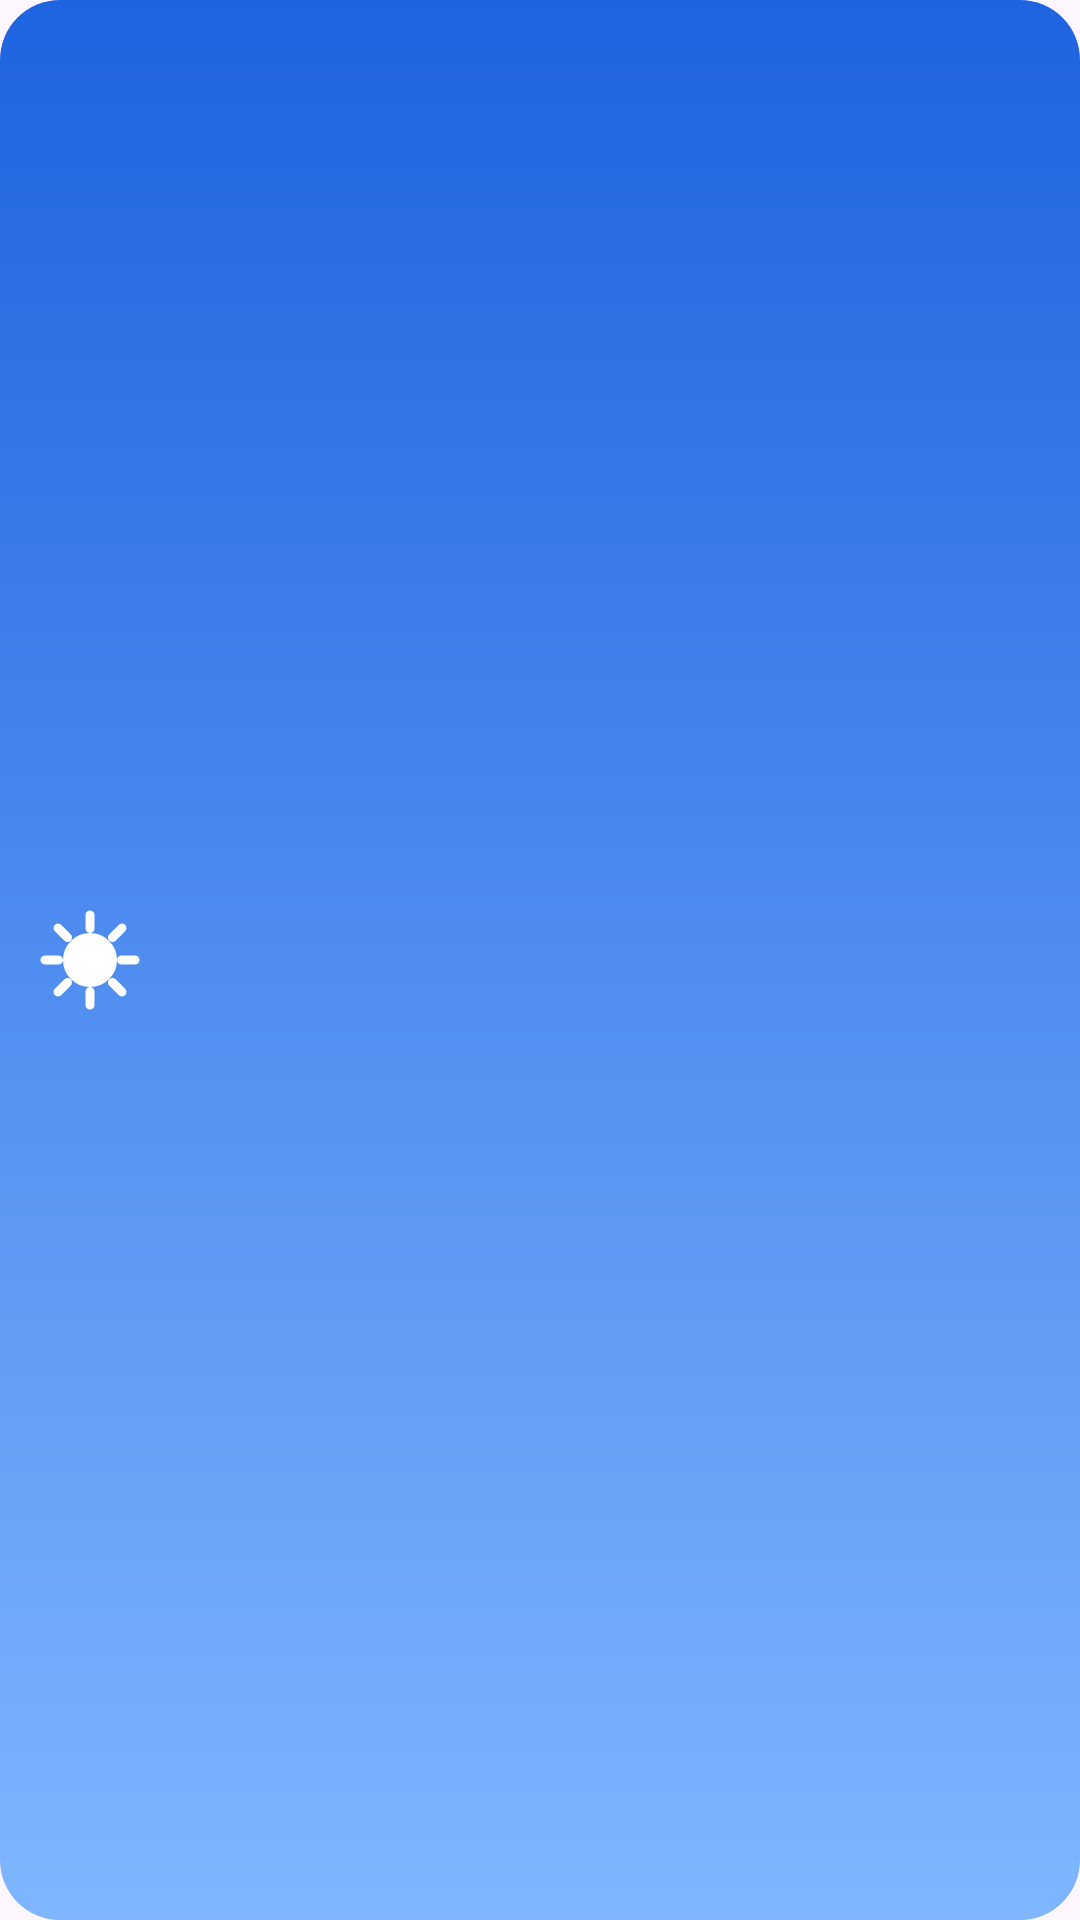

Screen size 1080 x 1920. Icon name, then its box in pixels as rect(x1, y1, x2, y2):
sun: rect(40, 910, 140, 1010)
